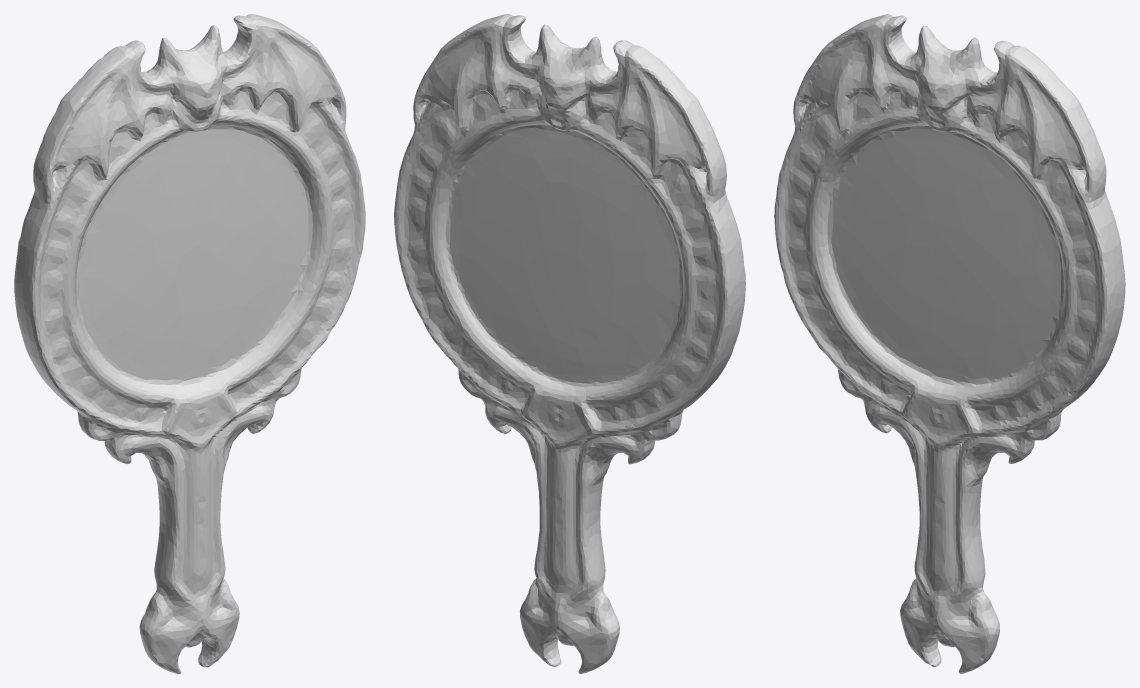
Rendered from orn_mirror01.glb.
3 renders of one model, left to right at view 1: azimuth 30°, elevation 25°; view 2: azimuth 150°, elevation 25°; view 3: azimuth 330°, elevation 25°, orthographic.
Parts seen in each view (by area): view 1: Low; view 2: Low; view 3: Low.
Part boxes in pixels (left/top/right/bottom): Low: left=14, top=14, right=365, bottom=673; Low: left=394, top=14, right=745, bottom=673; Low: left=774, top=14, right=1125, bottom=673.
Size of the model in its own units: 1.09 by 1.99 by 0.1901.
Materials: 1 (1 with a texture image).
